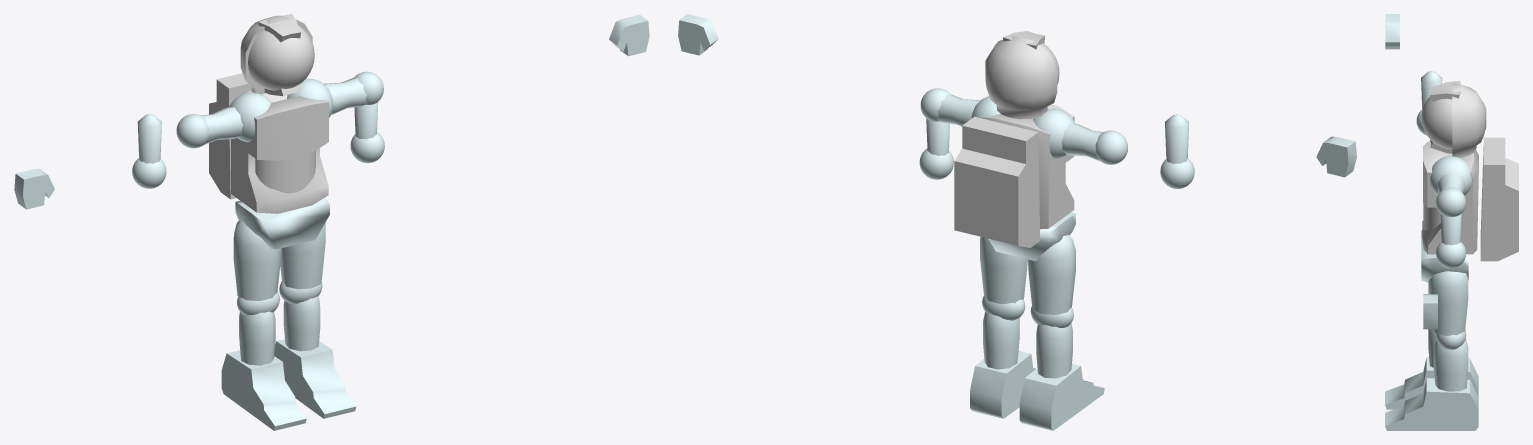
File: Space Suit.dae
The picture shows the model from 3 angles, left to right: view 1: azimuth 30°, elevation 25°; view 2: azimuth 150°, elevation 25°; view 3: azimuth 270°, elevation 25°; orthographic projection. The views are drawn at different scales.
Visible parts, largest first — view 1: Polygon_Mesh (×23); view 2: Polygon_Mesh (×20); view 3: Polygon_Mesh (×17).
Boxes of the visible parts, x1,y1,x2,y2 form: Polygon_Mesh (×23): (14,14,649,430); Polygon_Mesh (×20): (678,14,1356,430); Polygon_Mesh (×17): (1385,14,1518,430).
Size of the model in its own units: 745 by 409 by 152.
